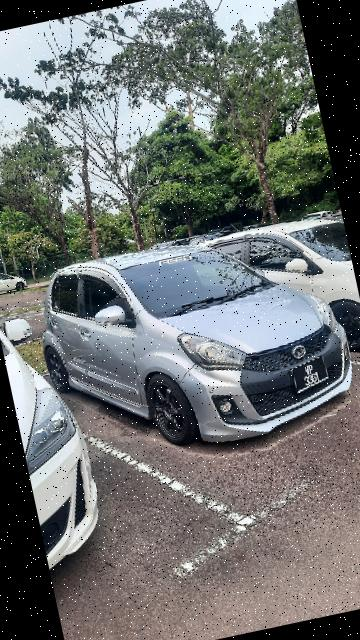License_Plate: (288, 356, 334, 397)
car: (24, 203, 360, 477), (1, 279, 131, 575), (190, 207, 360, 381)
